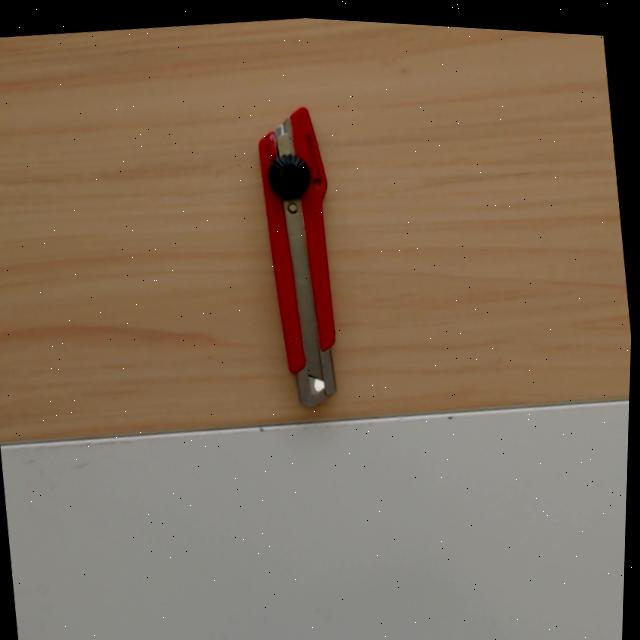Cutter-Besar: (254, 104, 340, 409)
